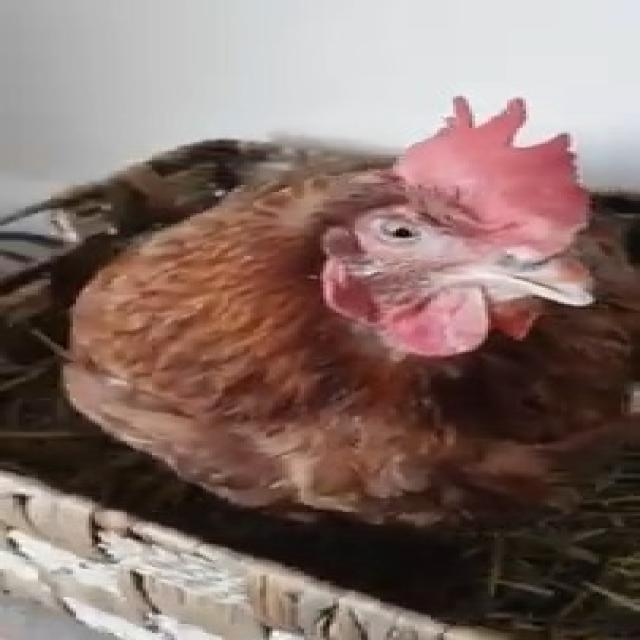bird flu: (66, 76, 640, 543)
